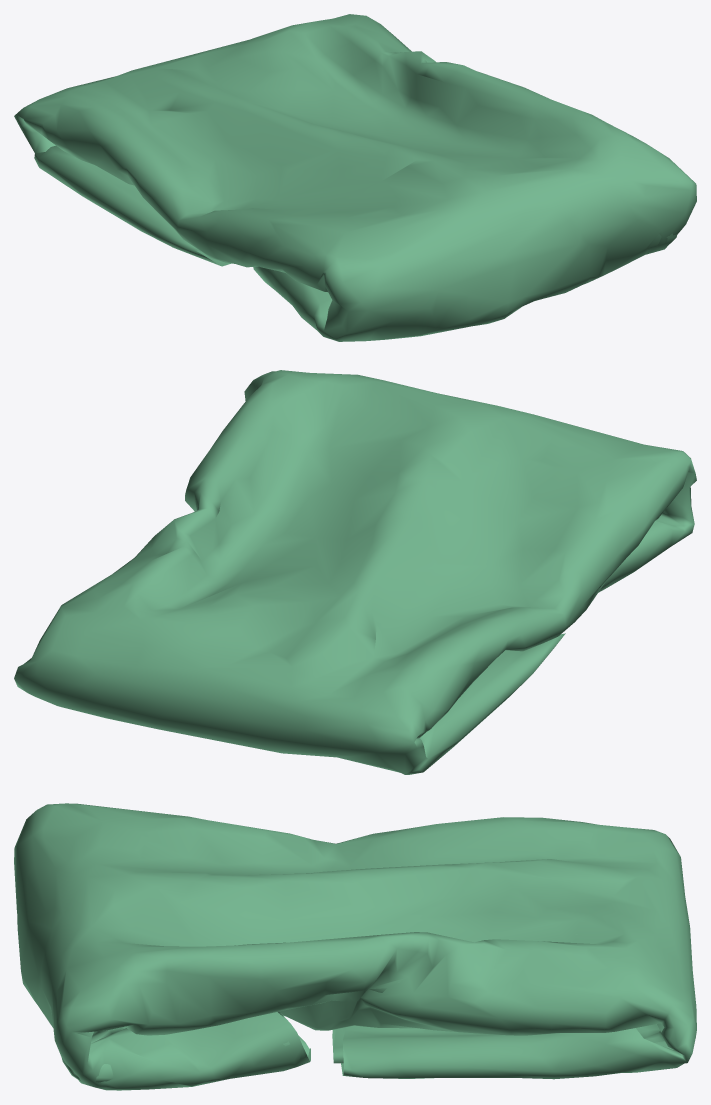
Rendered from Clinic clothes 1.FBX.
The picture shows the model from 3 angles, top to bottom: view 1: azimuth 30°, elevation 25°; view 2: azimuth 150°, elevation 25°; view 3: azimuth 270°, elevation 25°; orthographic projection. The views are drawn at different scales.
Visible parts, largest first — view 1: clinic clothes 1; view 2: clinic clothes 1; view 3: clinic clothes 1.
Boxes of the visible parts, x1,y1,x2,y2 form: clinic clothes 1: (14,14,696,341); clinic clothes 1: (14,370,696,774); clinic clothes 1: (14,803,696,1090).
Bounding box in the file's own units: 10.08 × 13.1 × 2.91.
1 material, 1 textured.
